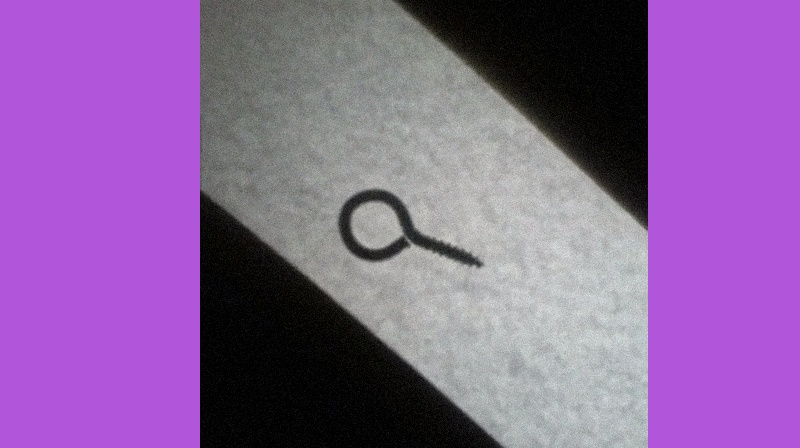O001: (334, 183, 486, 271)
